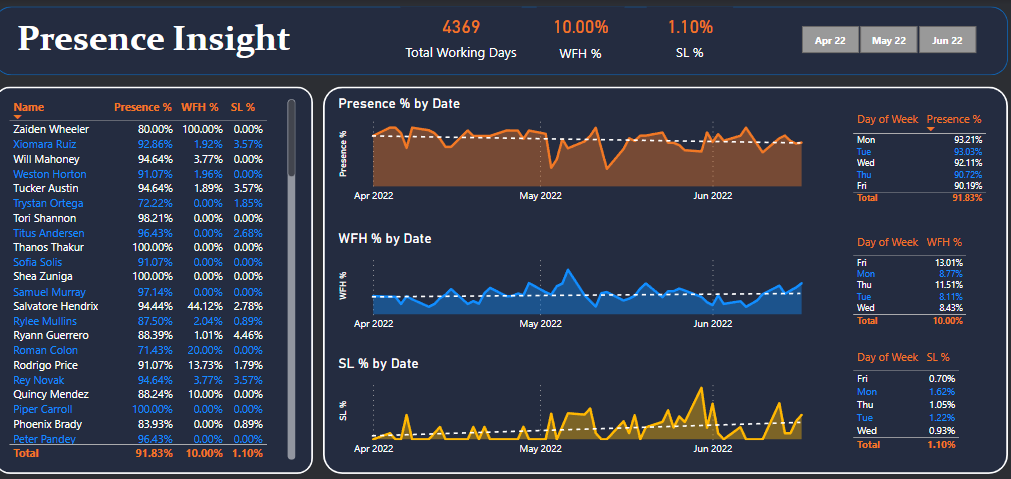

What the dashboard file says about the page in this screenshot:
{"tool":"powerbi","page":{"name":"Page 1","canvas":[1280,900],"ordinal":0},"visuals":[{"type":"shape","box":[13.8,9.2,1239.2,84],"z":0},{"type":"shape","box":[415.6,107,837.4,473.7],"z":1000},{"type":"shape","box":[13.8,592.9,1239.2,247.5],"z":2000},{"type":"shape","box":[13.8,107,389.6,473.7],"z":3000},{"type":"card","fields":{"Values":["measure table.SL %"]},"box":[811.4,9.2,105.4,70.3],"z":4000},{"type":"card","fields":{"Values":["measure table.Total Working Days"]},"box":[510.4,9.2,148.2,70.3],"z":5000},{"type":"card","fields":{"Values":["measure table.WFH %"]},"box":[676.9,9.2,107,71.8],"z":6000},{"type":"tableEx","fields":{"Values":["Final Data.Name","measure table.Presence %","measure table.WFH %","measure table.SL %"]},"box":[26,117.7,360.6,450.8],"z":7000},{"type":"textbox","box":[36.7,16.8,366.7,67.2],"z":8000},{"type":"pivotTable","fields":{"Rows":["Final Data.Name"],"Values":["Min(Final Data.Value)"],"Columns":["Final Data.Date"]},"box":[26,608.1,1211.7,221.6],"z":9000},{"type":"areaChart","fields":{"Category":["Final Data.Date"],"Y":["measure table.Presence %"]},"box":[429.4,117.7,600.5,140.6],"z":10000},{"type":"slicer","fields":{"Values":["Final Data.Month"]},"box":[974.9,26,262.8,47.4],"z":11000},{"type":"areaChart","fields":{"Category":["Final Data.Date"],"Y":["measure table.WFH %"]},"box":[429.4,282.7,600.5,132.9],"z":12000},{"type":"areaChart","fields":{"Category":["Final Data.Date"],"Y":["measure table.SL %"]},"box":[429.4,435.5,600.5,132.9],"z":13000},{"type":"tableEx","fields":{"Values":["Final Data.Day of Week","measure table.Presence %"]},"box":[1057.4,132.9,180.3,125.3],"z":14000},{"type":"tableEx","fields":{"Values":["Final Data.Day of Week","measure table.WFH %"]},"box":[1057.4,282.7,180.3,140.6],"z":15000},{"type":"tableEx","fields":{"Values":["Final Data.Day of Week","measure table.SL %"]},"box":[1057.4,423.3,180.3,145.2],"z":16000}]}

Visuals, with their boxes on the page's 1280x900 design canvas (x1, y1, x2, y2). These are canvas units, not pixel positions in the 1011x479 screenshot, which may show the page scaled, cropped or inside an application window:
shape: [x1=14, y1=9, x2=1253, y2=93]
shape: [x1=416, y1=107, x2=1253, y2=581]
shape: [x1=14, y1=593, x2=1253, y2=840]
shape: [x1=14, y1=107, x2=403, y2=581]
card - measure table.SL %: [x1=811, y1=9, x2=917, y2=80]
card - measure table.Total Working Days: [x1=510, y1=9, x2=659, y2=80]
card - measure table.WFH %: [x1=677, y1=9, x2=784, y2=81]
tableEx - Final Data.Name x measure table.Presence %: [x1=26, y1=118, x2=387, y2=568]
textbox: [x1=37, y1=17, x2=403, y2=84]
pivotTable - Final Data.Name x Min(Final Data.Value): [x1=26, y1=608, x2=1238, y2=830]
areaChart - Final Data.Date x measure table.Presence %: [x1=429, y1=118, x2=1030, y2=258]
slicer - Final Data.Month: [x1=975, y1=26, x2=1238, y2=73]
areaChart - Final Data.Date x measure table.WFH %: [x1=429, y1=283, x2=1030, y2=416]
areaChart - Final Data.Date x measure table.SL %: [x1=429, y1=436, x2=1030, y2=568]
tableEx - Final Data.Day of Week x measure table.Presence %: [x1=1057, y1=133, x2=1238, y2=258]
tableEx - Final Data.Day of Week x measure table.WFH %: [x1=1057, y1=283, x2=1238, y2=423]
tableEx - Final Data.Day of Week x measure table.SL %: [x1=1057, y1=423, x2=1238, y2=568]
